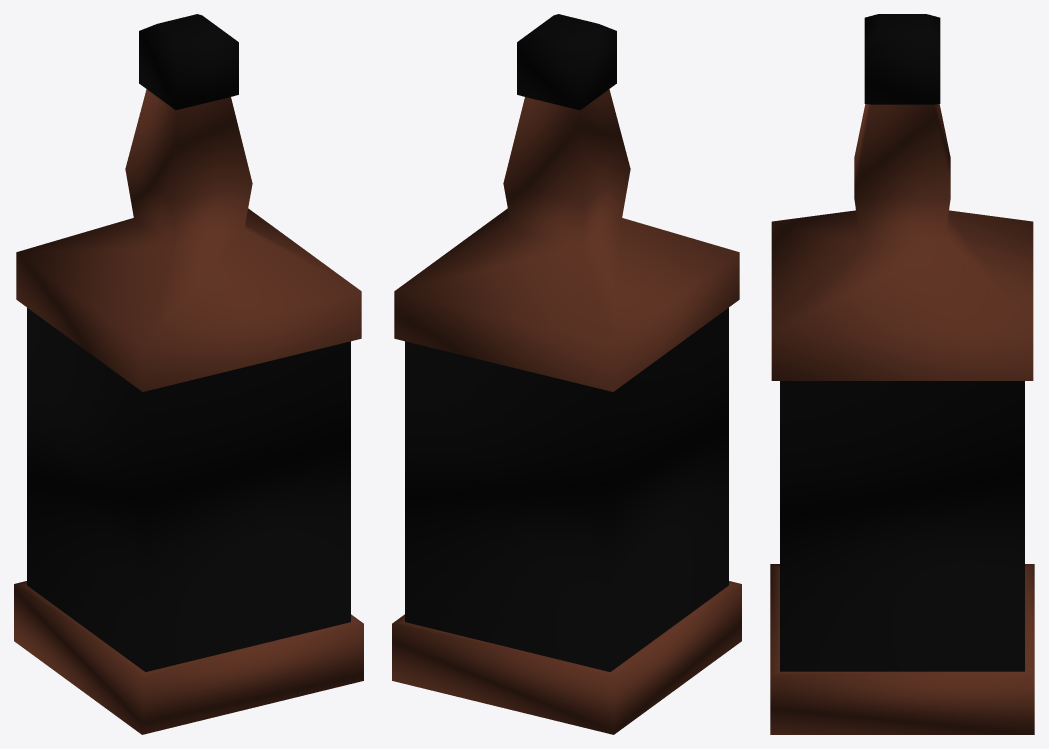
Rendered from JackDa.fbx.
3 renders of one model, left to right at view 1: azimuth 30°, elevation 25°; view 2: azimuth 150°, elevation 25°; view 3: azimuth 270°, elevation 25°, orthographic. The views are drawn at different scales.
Parts seen in each view (by area): view 1: Cube.006; view 2: Cube.006; view 3: Cube.006.
Part boxes in pixels (bbox=[...]): Cube.006: bbox=[14, 14, 363, 734]; Cube.006: bbox=[392, 14, 741, 734]; Cube.006: bbox=[770, 14, 1034, 734].
Bounding box in the file's own units: 11.94 × 32.6 × 11.94.
